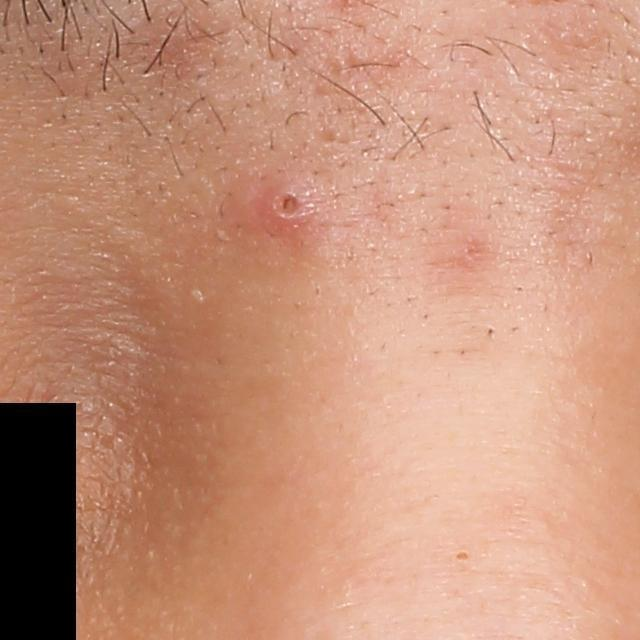comedo: (453, 548, 474, 563)
papule: (247, 172, 341, 250)
